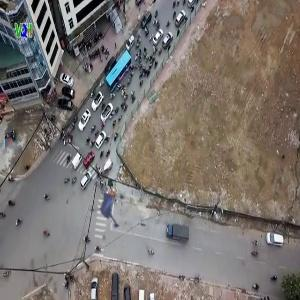drone: (86, 183, 143, 240)
